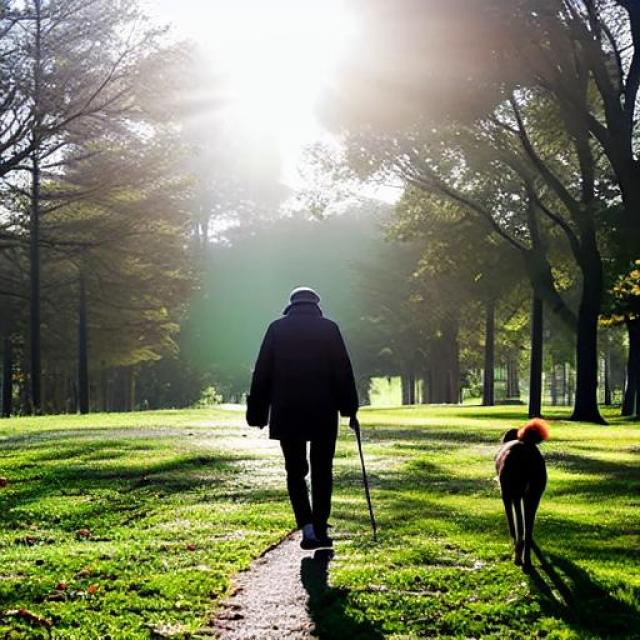Unleashed_Dog: (300, 391, 551, 575)
